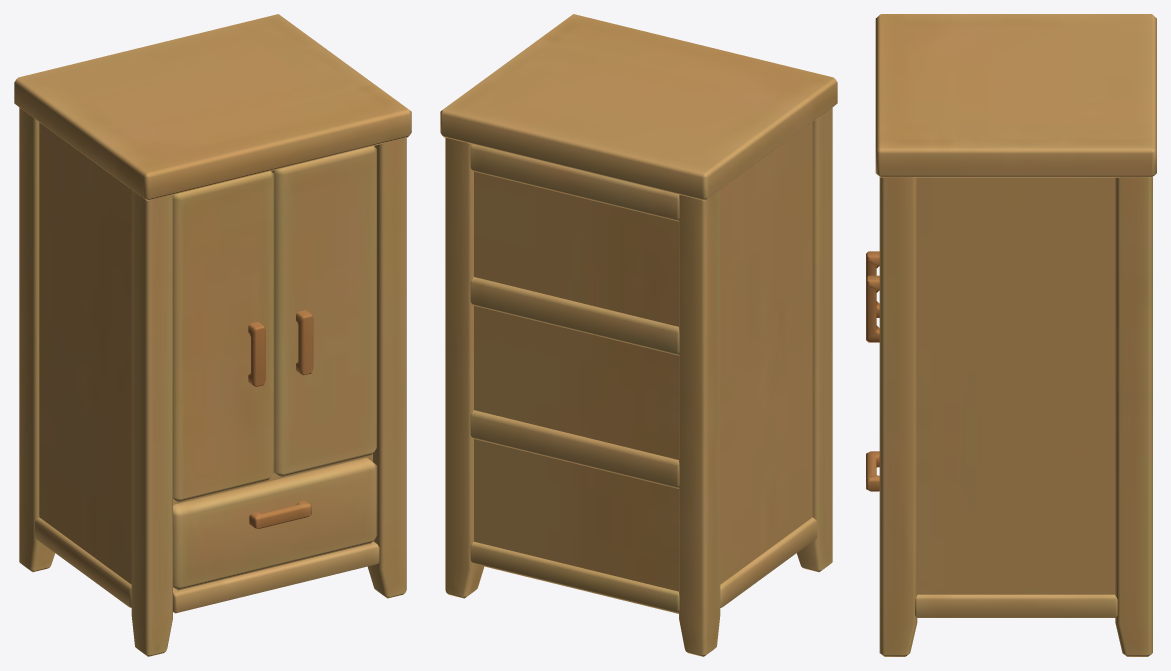
3 views of the same model, side by side, from view 1: azimuth 30°, elevation 25°; view 2: azimuth 150°, elevation 25°; view 3: azimuth 270°, elevation 25° (orthographic). The views are drawn at different scales.
Size of the model in its own units: 9.33 by 16.18 by 8.34.
1 material, 1 textured.
